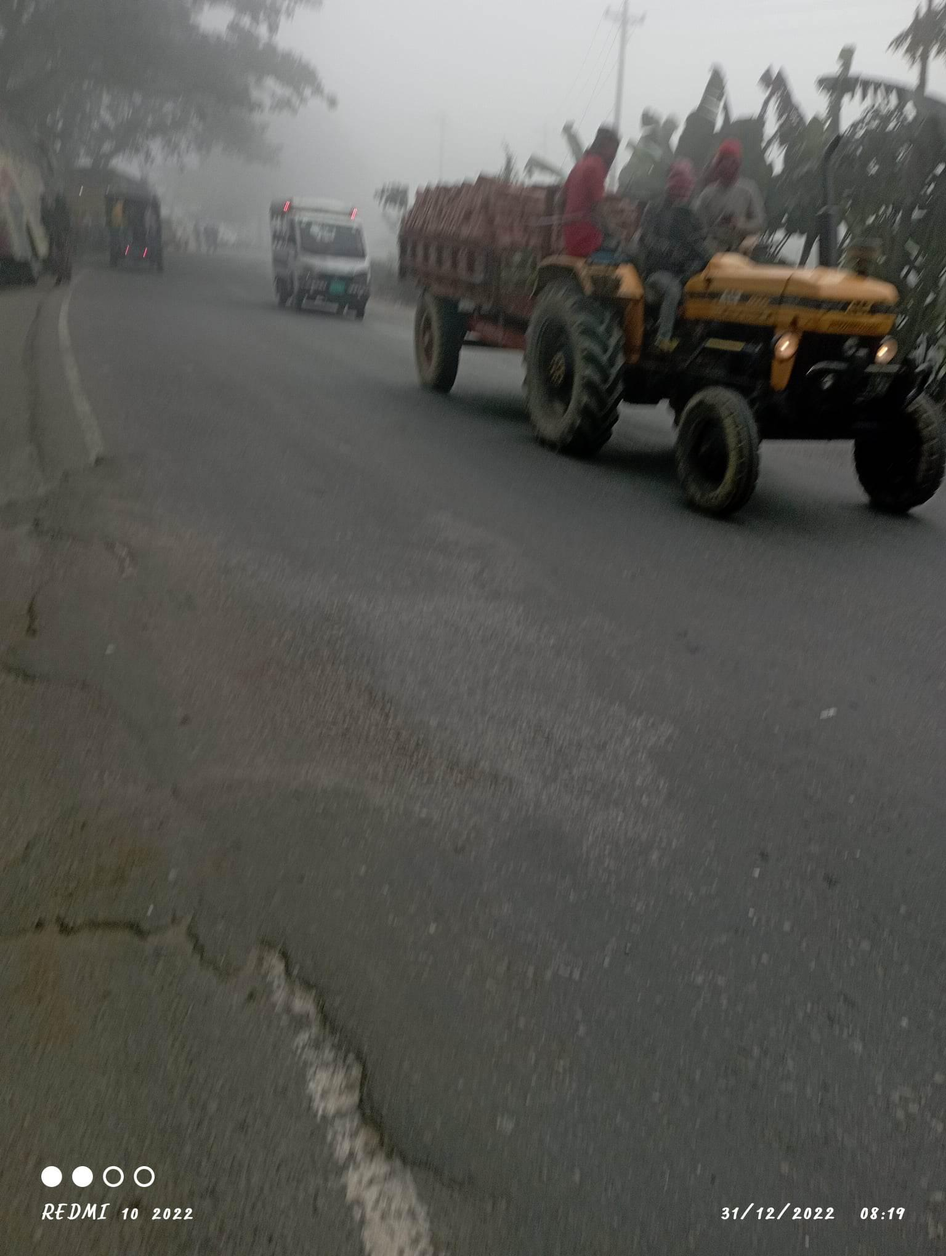Car: (264, 168, 389, 333), (97, 173, 190, 295)
Truck: (386, 94, 946, 624)
